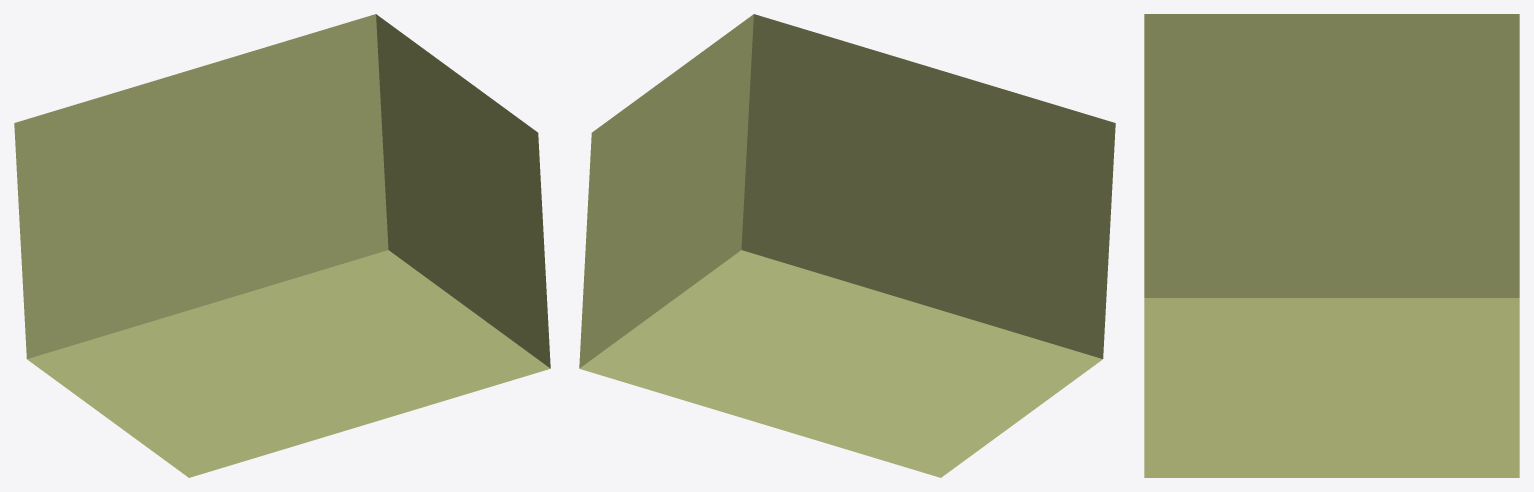
3 renders of one model, left to right at view 1: azimuth 30°, elevation 25°; view 2: azimuth 150°, elevation 25°; view 3: azimuth 270°, elevation 25°, orthographic. The views are drawn at different scales.
Visible parts, largest first — view 1: 0_3_1_3_3_2_2_2_2_0_2; view 2: 0_3_1_3_3_2_2_2_2_0_2; view 3: 0_3_1_3_3_2_2_2_2_0_2.
Part boxes in pixels (<box>): 0_3_1_3_3_2_2_2_2_0_2: <box>14,14,550,477</box>; 0_3_1_3_3_2_2_2_2_0_2: <box>579,14,1115,477</box>; 0_3_1_3_3_2_2_2_2_0_2: <box>1144,14,1519,477</box>.
Bounding box in the file's own units: 7.99 × 5.31 × 6.
